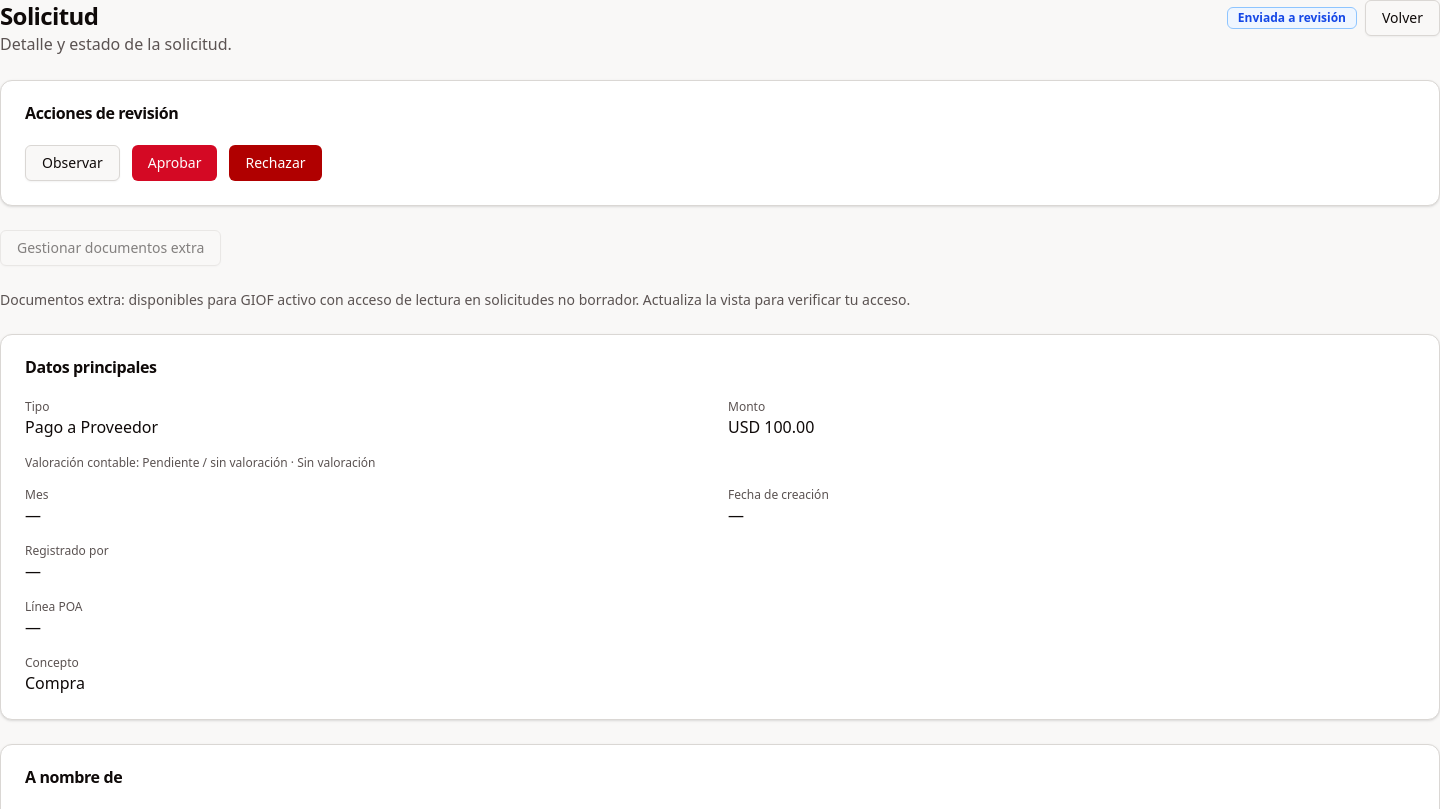
Scenario: ordinary USD approval manual FX › real approval HTTP 403 keeps form state without retry or lookup
Click the button "Aprobar": coordinates (175, 163) x1=132 y1=145 x2=218 y2=181
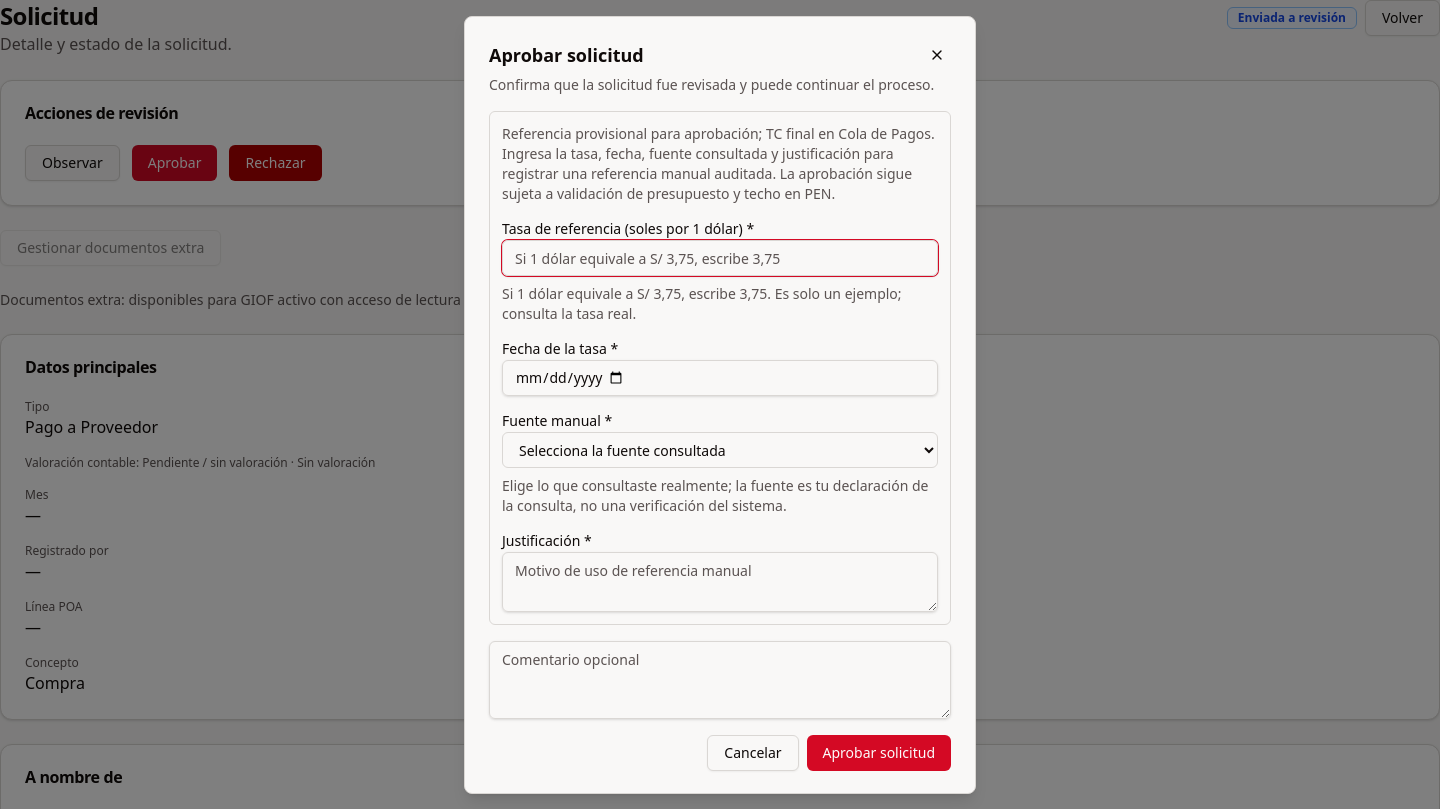
In the field labelled "Tasa de referencia (soles por 1 dólar) *": coordinates (720, 258) x1=502 y1=240 x2=938 y2=276, type "3,70"
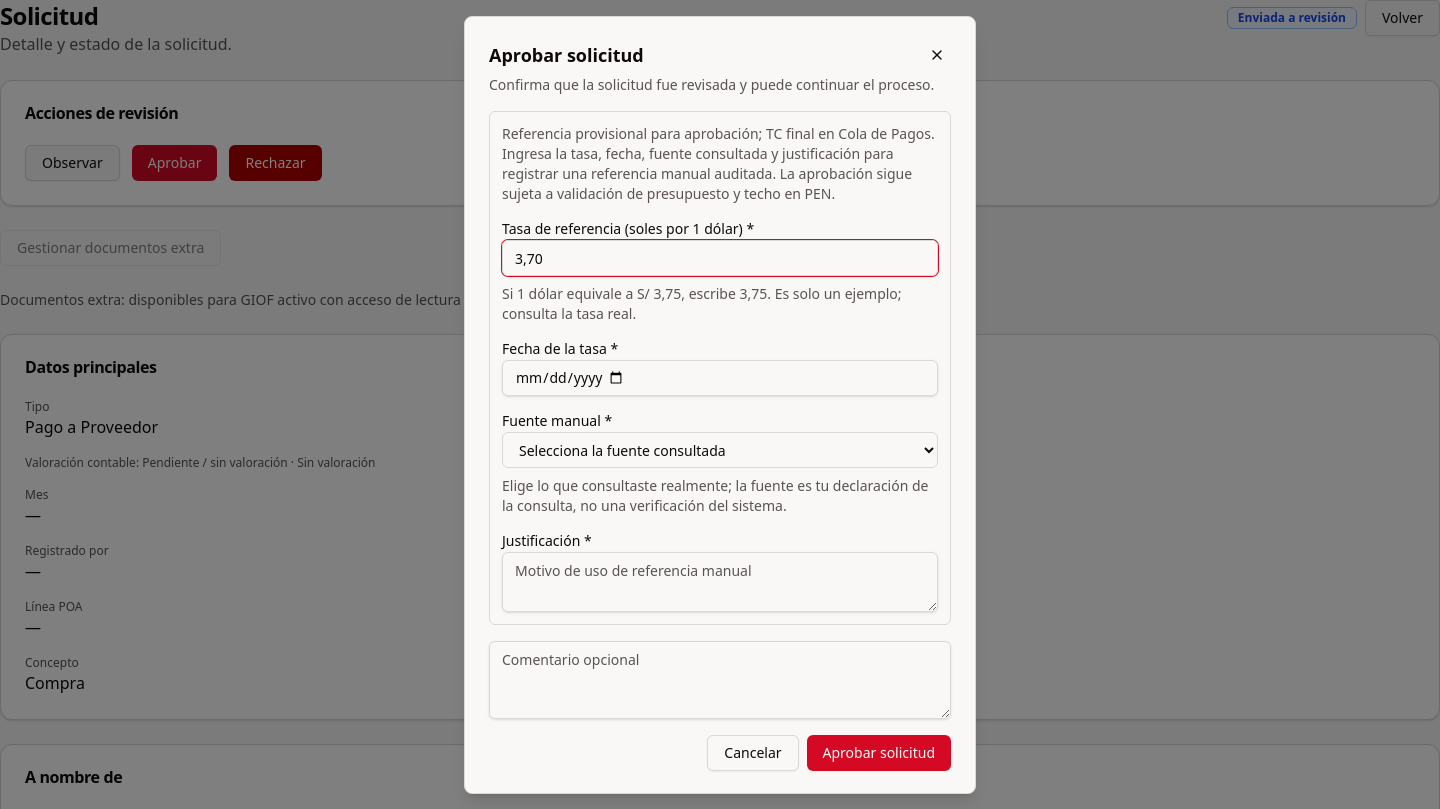
In the date field labelled "Fecha de la tasa *": coordinates (720, 378) x1=502 y1=360 x2=938 y2=396, type "2026-09-01"
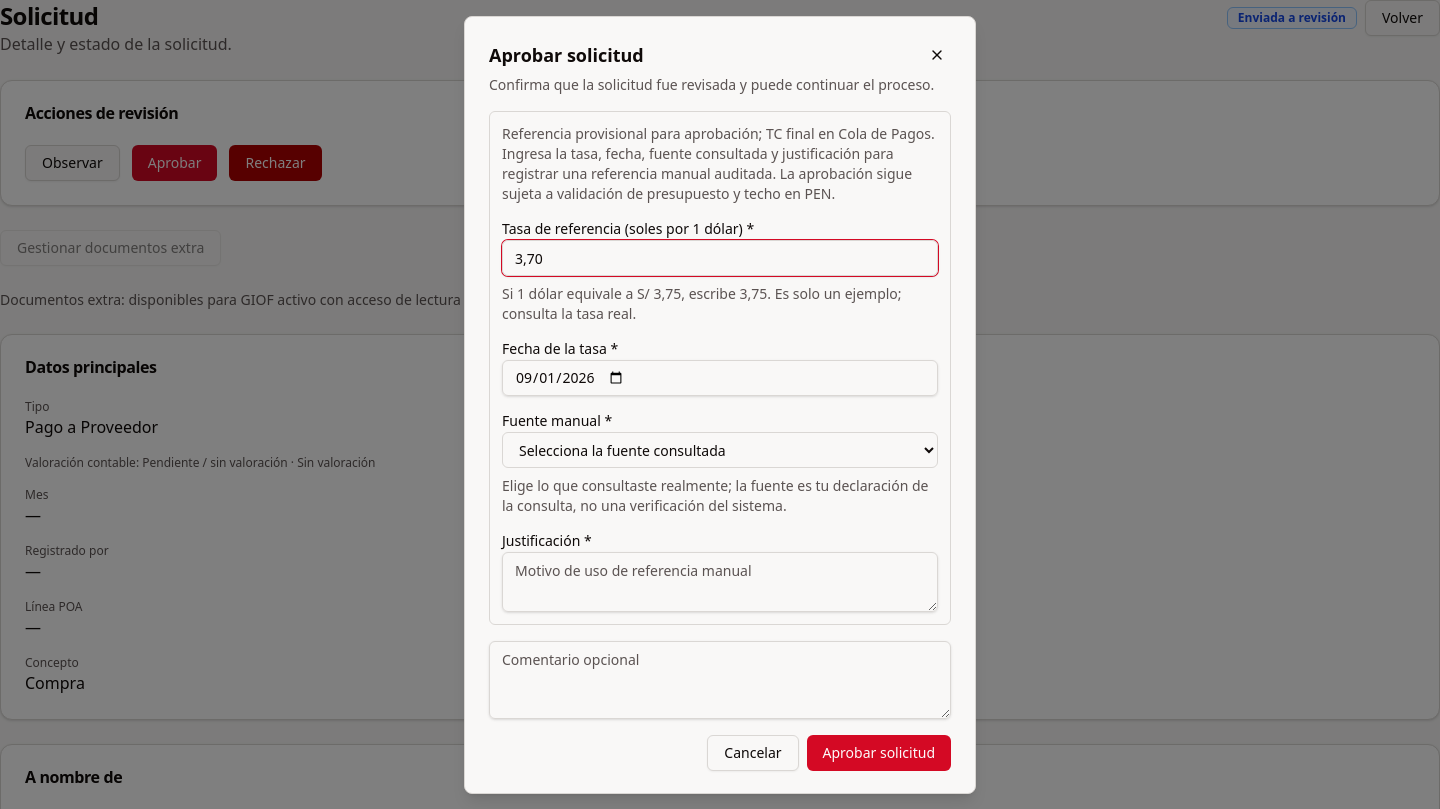
Select "Banco/entidad financiera (documento consultado)" in the dropdown labelled "Fuente manual *": coordinates (720, 450) x1=502 y1=432 x2=938 y2=468
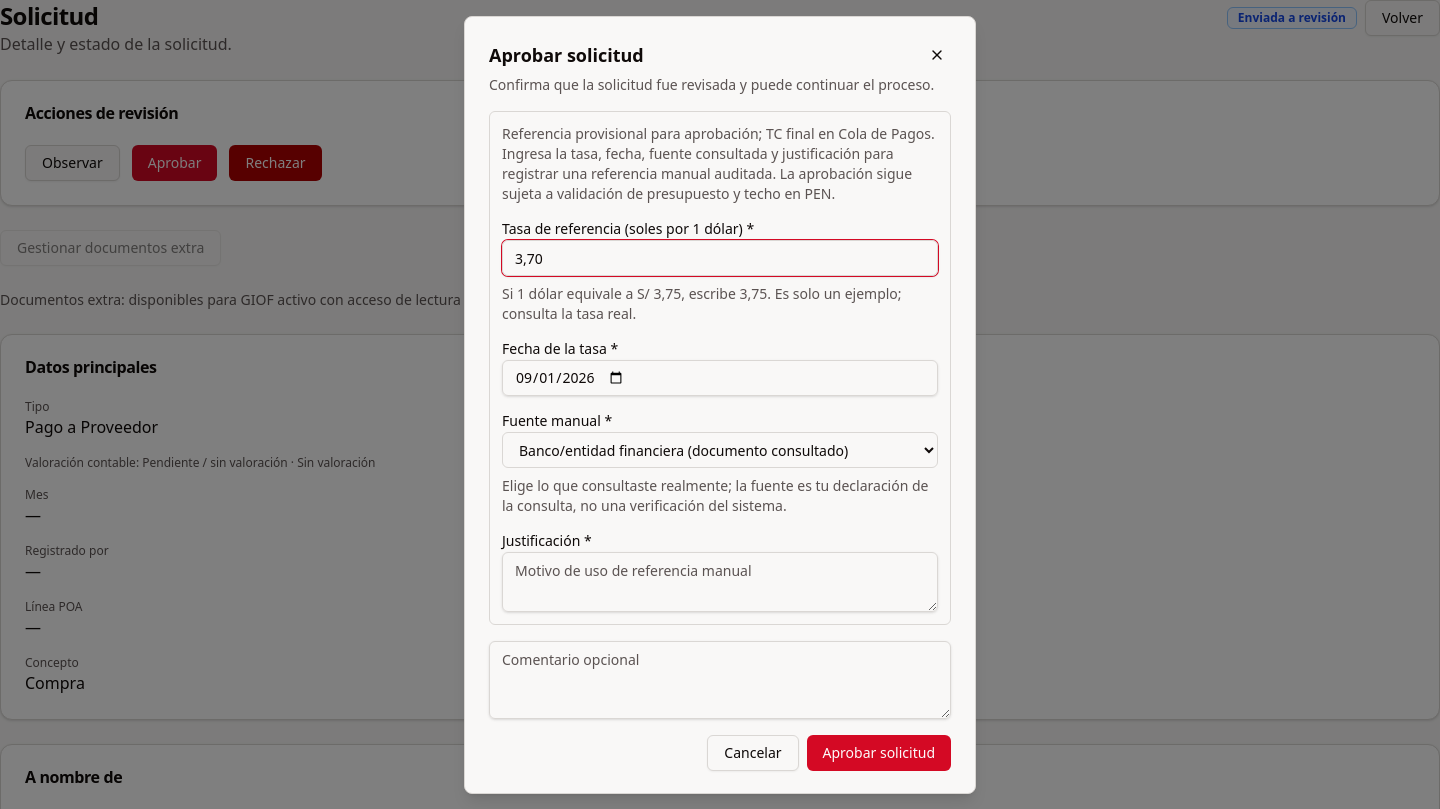
In the text box labelled "Justificación *": coordinates (720, 582) x1=502 y1=552 x2=938 y2=612, type "BCRP no disponible"
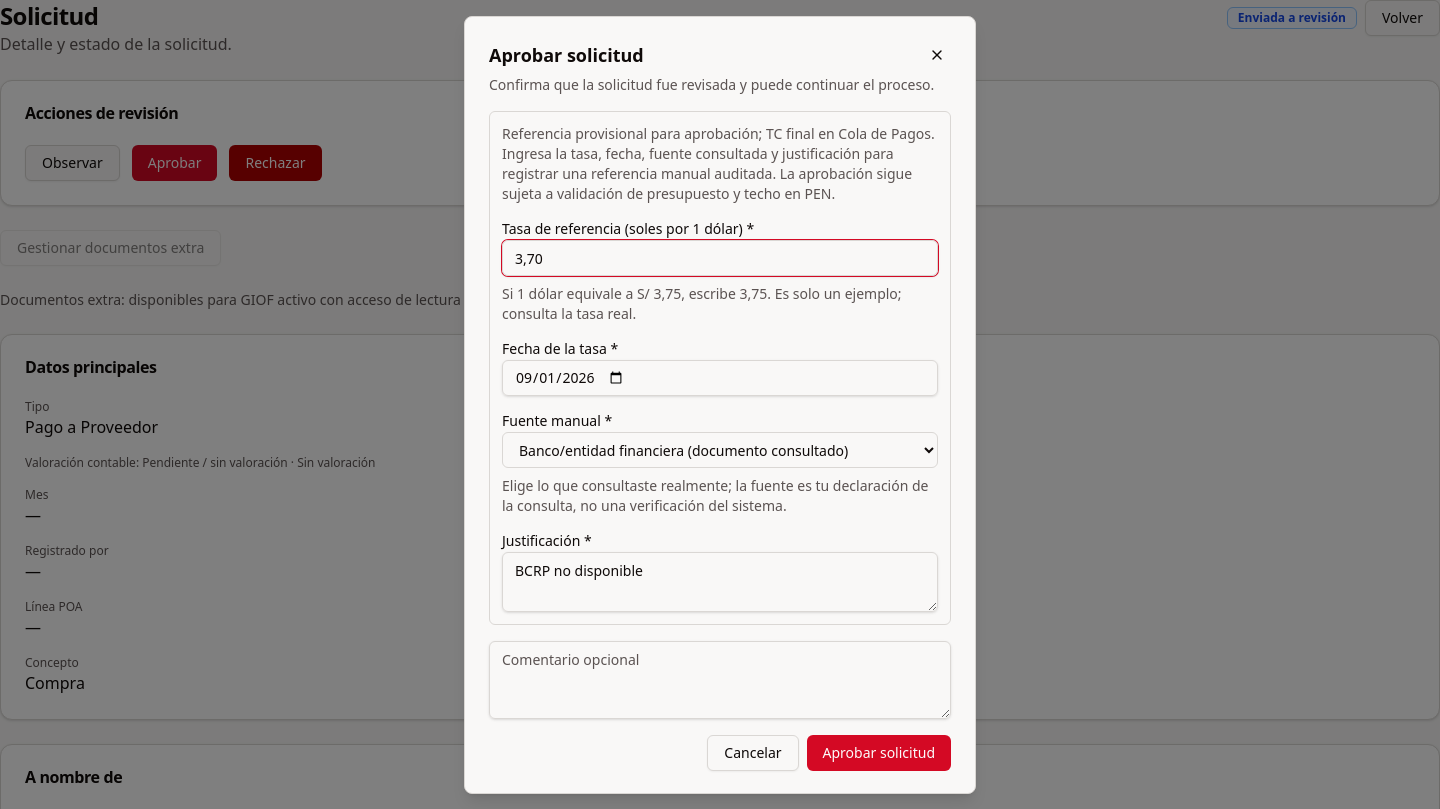
Click the button "Aprobar solicitud": coordinates (879, 753) x1=806 y1=735 x2=951 y2=771
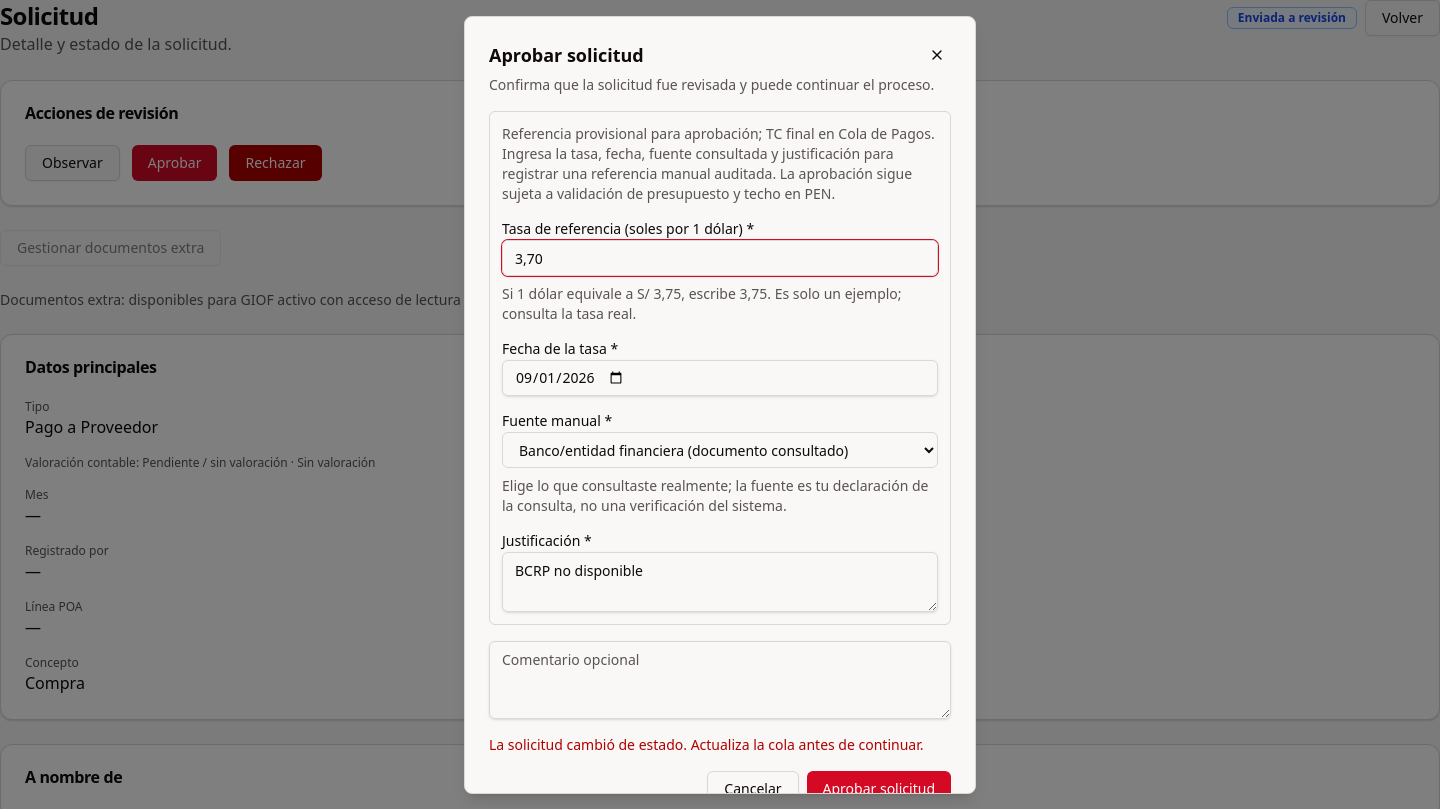
Now the message "La solicitud cambió de estado. Actualiza la cola antes de continuar." is shown, box x1=489 y1=735 x2=951 y2=755
